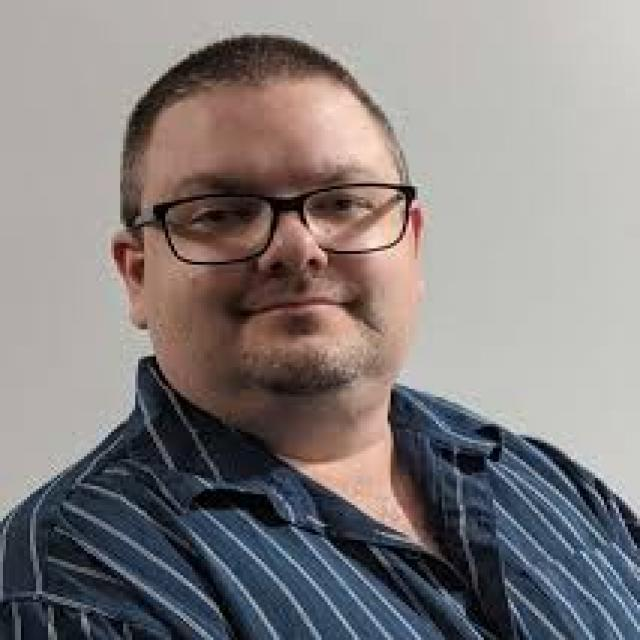Glasses: (135, 175, 433, 272)
